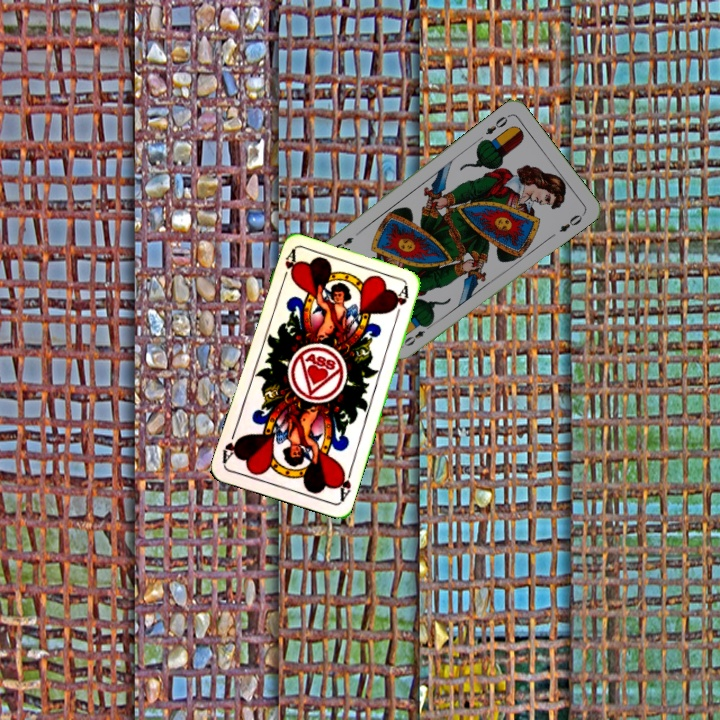EO: (400, 319, 435, 349), (481, 111, 512, 137)
HA: (333, 463, 355, 504), (277, 247, 299, 287)
